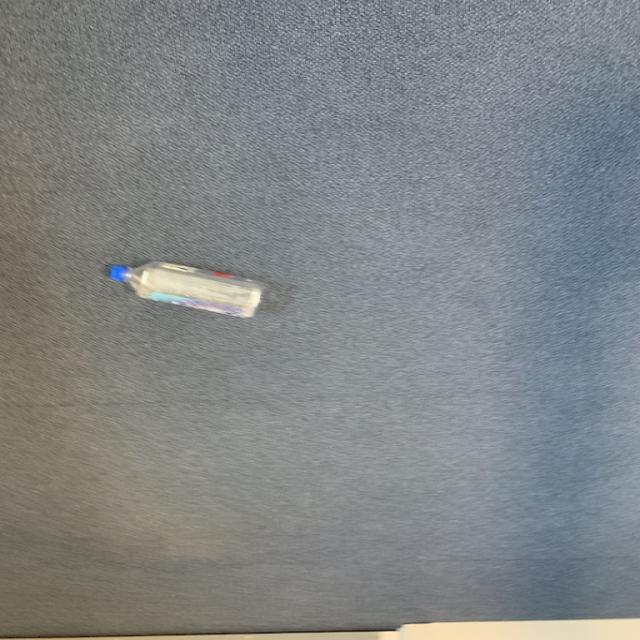Waste: (110, 261, 262, 318)
